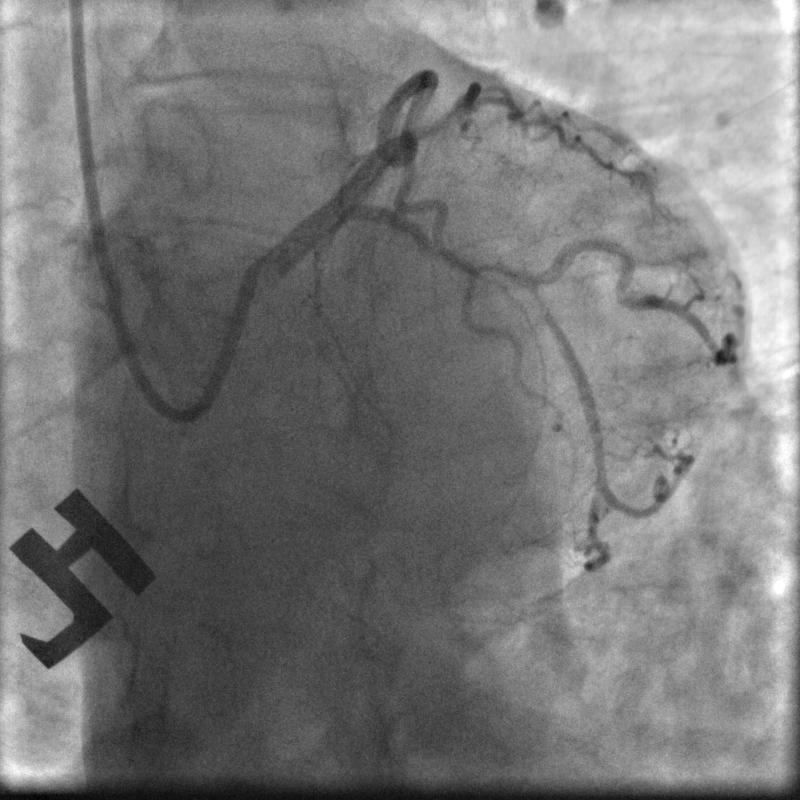Stenosis: (472, 255, 546, 305)
